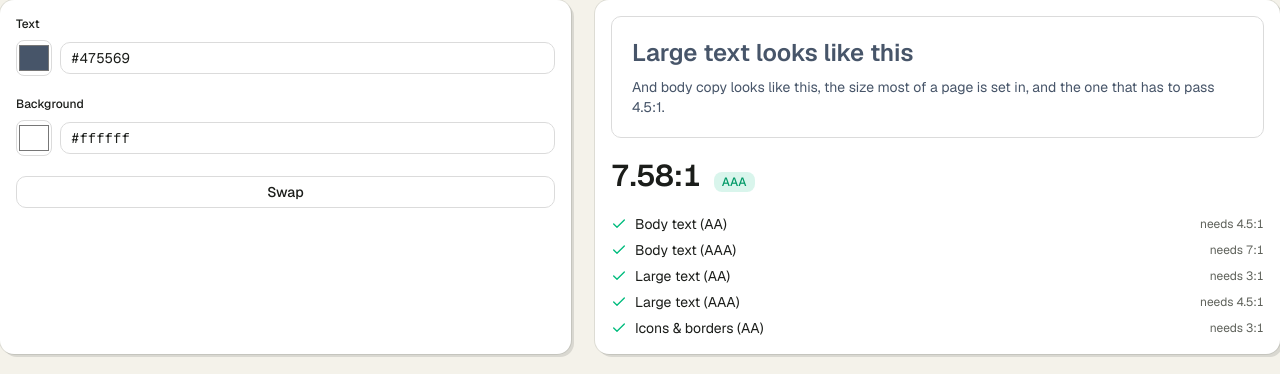
ContrastCheckerTool › swaps the two colours over
Clear the field labelled "Text" at (307, 58), box [60,42,555,74]
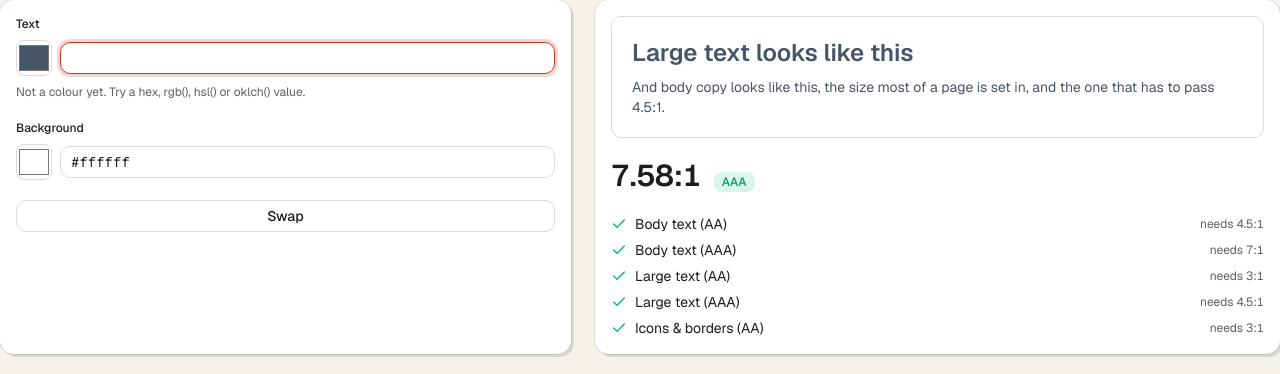
Type keys "#000000"
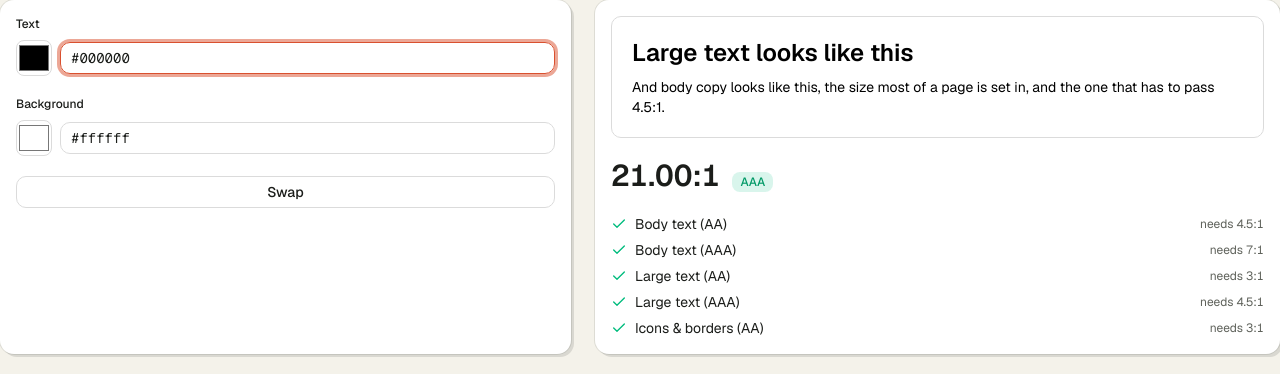
Click the button "Swap" at (285, 192), box [16,176,555,208]
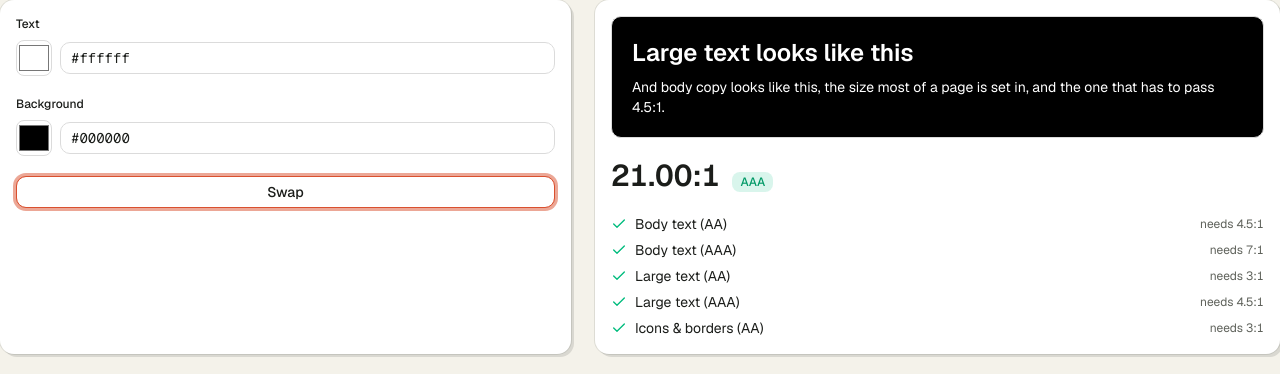
Check: the text "21.00:1" is shown, box [611,158,720,194]
Check: the field labelled "Text" holds "#ffffff", box [60,42,555,74]
Check: the field labelled "Background" holds "#000000", box [60,122,555,154]
